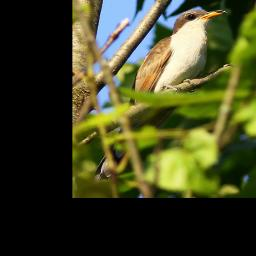Cuckoo: (90, 5, 230, 185)
